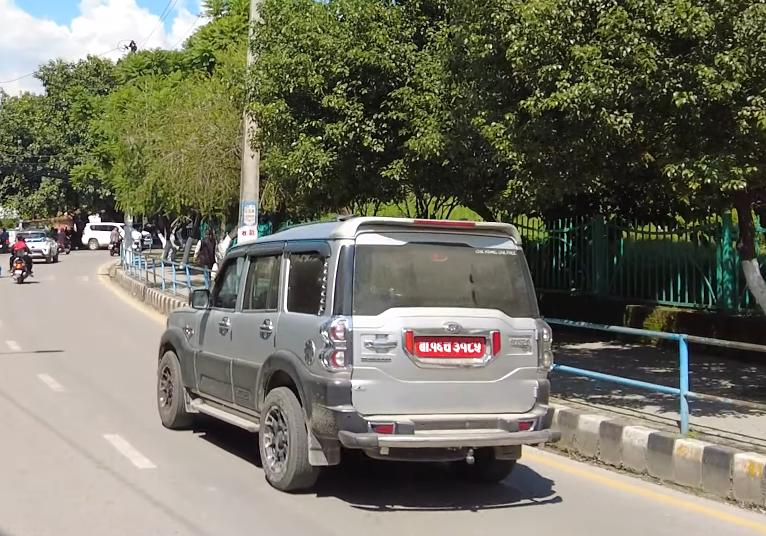SUV: (156, 212, 563, 492)
car: (12, 226, 66, 263)
